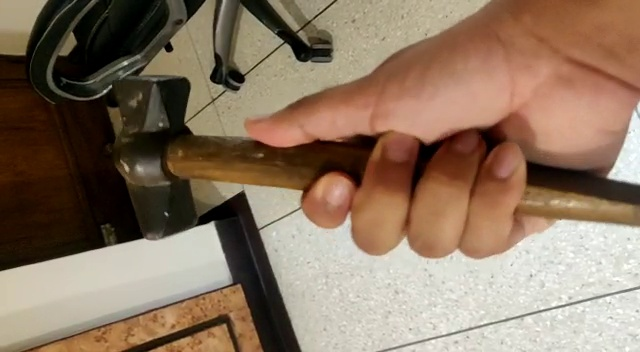hammer: (109, 73, 640, 245)
